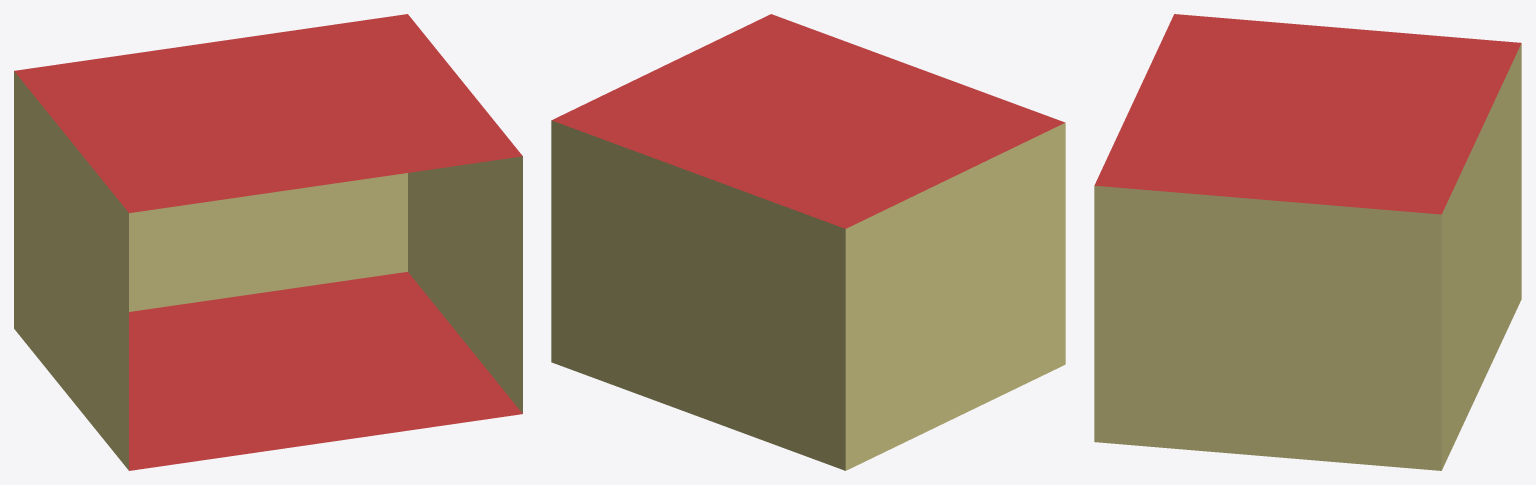
3 views of the same model, side by side, from view 1: azimuth 30°, elevation 25°; view 2: azimuth 150°, elevation 25°; view 3: azimuth 270°, elevation 25° (orthographic). The views are drawn at different scales.
Size of the model in its own units: 9.74 by 8.77 by 5.81.
